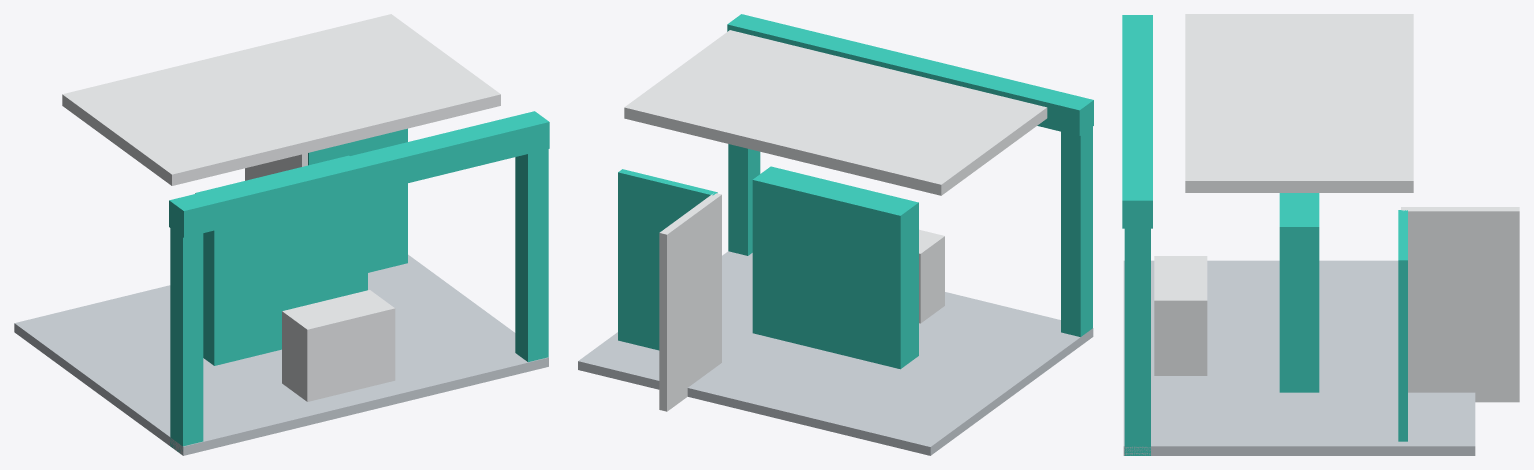
3 views of the same model, side by side, from view 1: azimuth 30°, elevation 25°; view 2: azimuth 150°, elevation 25°; view 3: azimuth 270°, elevation 25° (orthographic). The views are drawn at different scales.
Parts seen in each view (by area): view 1: Exhibition Booth Concept; view 2: Exhibition Booth Concept; view 3: Exhibition Booth Concept.
Part boxes in pixels (x1,y1,x2,y2): Exhibition Booth Concept: [14, 14, 549, 455]; Exhibition Booth Concept: [578, 14, 1093, 455]; Exhibition Booth Concept: [1122, 14, 1519, 455].
Bounding box in the file's own units: 5 × 3.34 × 4.52.
